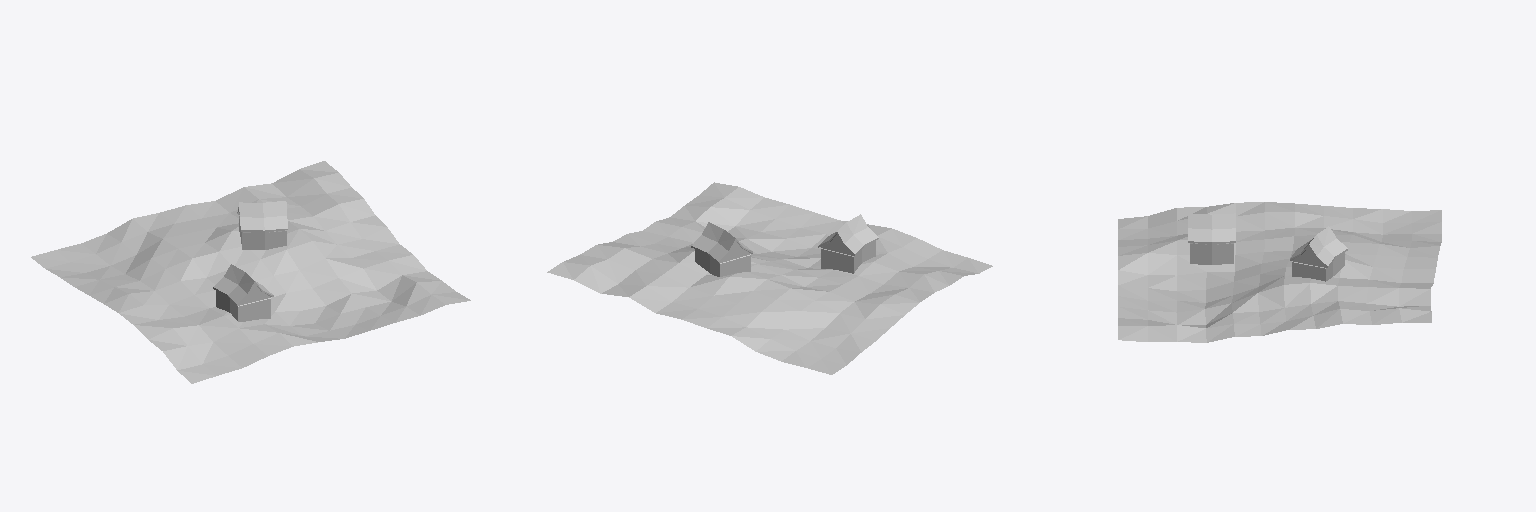
File: houses.obj
The picture shows the model from 3 angles: view 1: azimuth 30°, elevation 25°; view 2: azimuth 150°, elevation 25°; view 3: azimuth 270°, elevation 25°; orthographic projection.
Visible parts, largest first — view 1: Plane; view 2: Plane; view 3: Plane.
Boxes of the visible parts, <box> form: Plane: <box>31,161,470,383</box>; Plane: <box>547,182,992,374</box>; Plane: <box>1118,202,1441,342</box>.
Size of the model in its own units: 13.13 by 2.92 by 12.68.